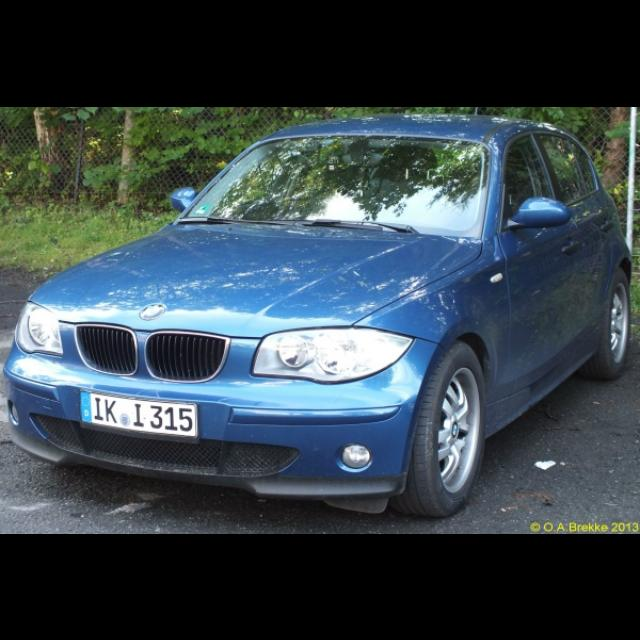d_license_plate: (79, 389, 197, 435)
